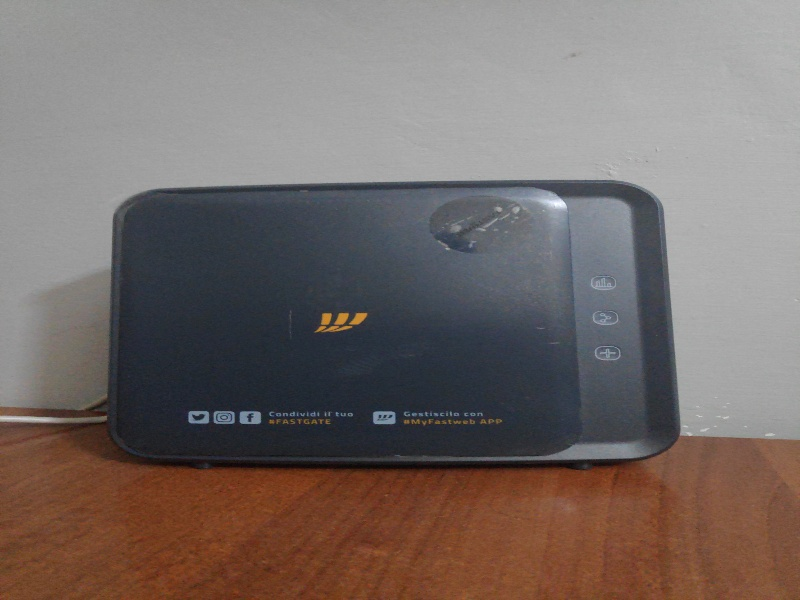router: (106, 179, 683, 478)
